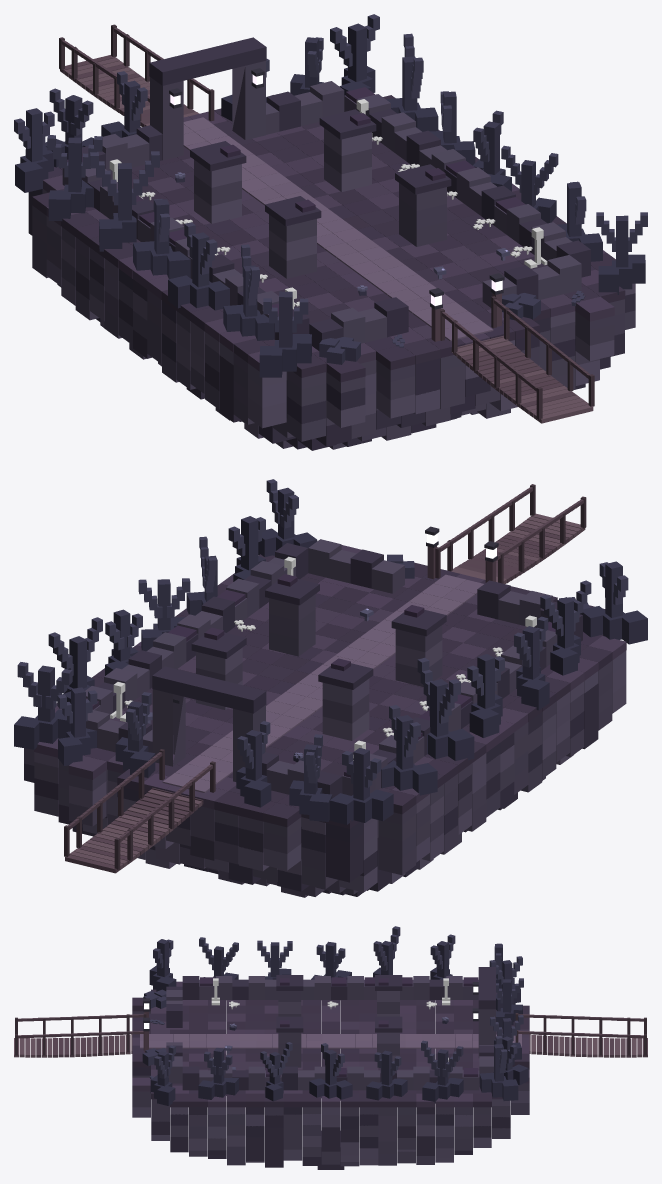
The model's file is room_pillars_polluted.glb.
3 renders of one model, top to bottom at view 1: azimuth 30°, elevation 25°; view 2: azimuth 150°, elevation 25°; view 3: azimuth 270°, elevation 25°, orthographic. The views are drawn at different scales.
Visible parts, largest first — view 1: room_pillars_blocks, tree2_(0, 0).002, tree0_(0, 0).001, tree4_(0, 0).001, tree4_(0, 0).002, tree1_(0, 0).001, tree0_(0, 0).003, tree0_(0, 0).002, tree1_(0, 0).003, tree2_(0, 0).001, tree5_(0, 0).002, tree5_(0, 0).001 (+8 smaller); view 2: room_pillars_blocks, tree1_(0, 0).003, tree2_(0, 0).002, tree0_(0, 0).003, tree0_(0, 0).001, tree4_(0, 0).002, tree2_(0, 0).001, tree0_(0, 0).002, tree4_(0, 0).001, tree3_(0, 0).003, tree4_(0, 0).003, tree1_(0, 0).001 (+7 smaller); view 3: room_pillars_blocks, tree5_(0, 0).002, tree3_(0, 0).001, tree1_(0, 0).002, tree1_(0, 0).003, tree3_(0, 0).002, tree1_(0, 0).001, tree5_(0, 0).001, tree0_(0, 0).001, tree4_(0, 0).003, tree4_(0, 0).001, tree2_(0, 0).001 (+6 smaller).
Part boxes in pixels (left/top/right/bottom): room_pillars_blocks: left=28, top=24, right=635, bottom=450; tree2_(0, 0).002: left=90, top=151, right=159, bottom=251; tree0_(0, 0).001: left=259, top=291, right=311, bottom=377; tree4_(0, 0).001: left=168, top=222, right=229, bottom=310; tree4_(0, 0).002: left=47, top=135, right=102, bottom=221; tree1_(0, 0).001: left=596, top=212, right=647, bottom=294; tree0_(0, 0).003: left=14, top=108, right=54, bottom=192; tree0_(0, 0).002: left=133, top=199, right=190, bottom=279; tree1_(0, 0).003: left=330, top=14, right=379, bottom=95; tree2_(0, 0).001: left=223, top=244, right=274, bottom=340; tree5_(0, 0).002: left=386, top=33, right=438, bottom=131; tree5_(0, 0).001: left=501, top=145, right=558, bottom=223; room_pillars_blocks: left=24, top=484, right=626, bottom=897; tree1_(0, 0).003: left=14, top=662, right=72, bottom=749; tree2_(0, 0).002: left=417, top=657, right=474, bottom=760; tree0_(0, 0).003: left=329, top=748, right=393, bottom=824; tree0_(0, 0).001: left=580, top=561, right=647, bottom=644; tree4_(0, 0).002: left=381, top=705, right=437, bottom=795; tree2_(0, 0).001: left=540, top=580, right=591, bottom=675; tree0_(0, 0).002: left=467, top=654, right=504, bottom=737; tree4_(0, 0).001: left=514, top=616, right=549, bottom=710; tree3_(0, 0).003: left=57, top=687, right=97, bottom=765; tree4_(0, 0).003: left=236, top=721, right=271, bottom=807; tree1_(0, 0).001: left=258, top=479, right=317, bottom=556; room_pillars_blocks: left=14, top=967, right=647, bottom=1169; tree5_(0, 0).002: left=421, top=1040, right=463, bottom=1103; tree3_(0, 0).001: left=198, top=1047, right=238, bottom=1099; tree1_(0, 0).002: left=309, top=1043, right=352, bottom=1100; tree1_(0, 0).003: left=479, top=1036, right=518, bottom=1100; tree3_(0, 0).002: left=366, top=1050, right=407, bottom=1100; tree1_(0, 0).001: left=150, top=1045, right=175, bottom=1105; tree5_(0, 0).001: left=260, top=1042, right=292, bottom=1101; tree0_(0, 0).001: left=149, top=939, right=176, bottom=991; tree4_(0, 0).003: left=496, top=978, right=523, bottom=1028; tree4_(0, 0).001: left=257, top=940, right=292, bottom=979; tree2_(0, 0).001: left=199, top=937, right=238, bottom=979.
Bounding box in the file's own units: 18.21 × 12.1 × 38.5.
